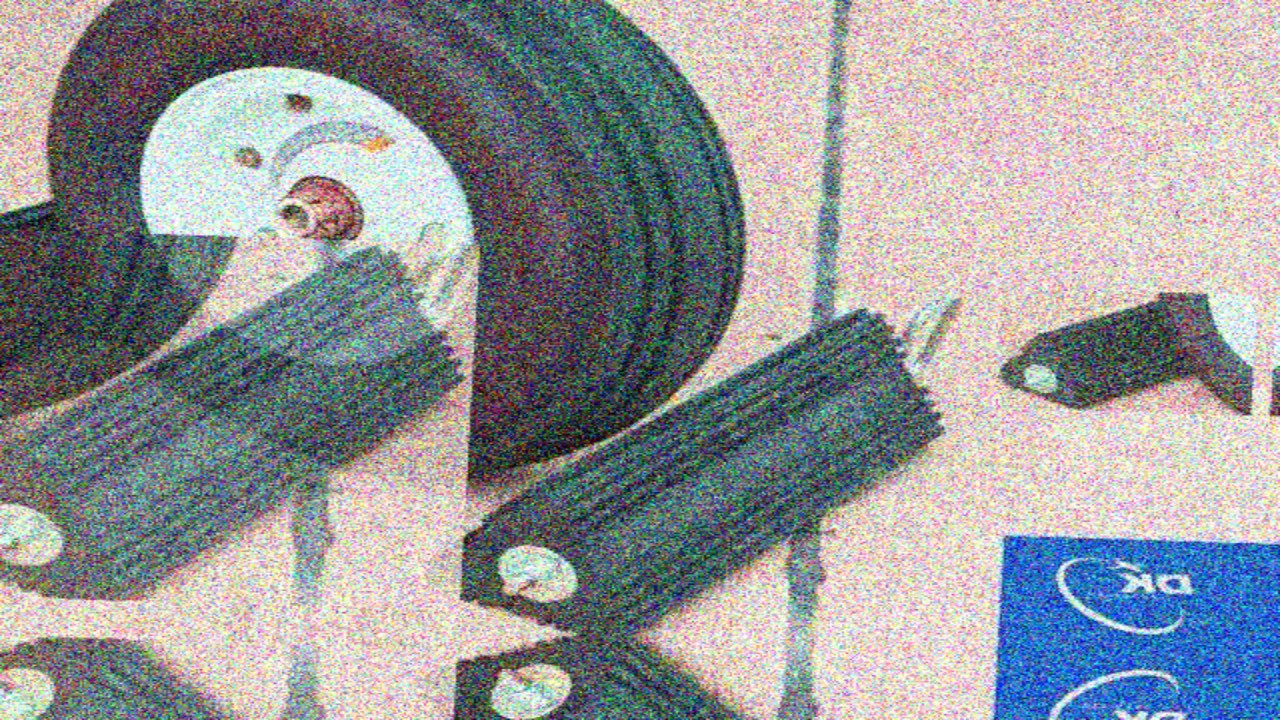chock: (419, 291, 958, 644), (0, 226, 480, 611), (0, 177, 230, 412), (400, 632, 939, 720), (0, 633, 457, 720), (996, 287, 1258, 416)
wheel: (31, 0, 756, 484)
